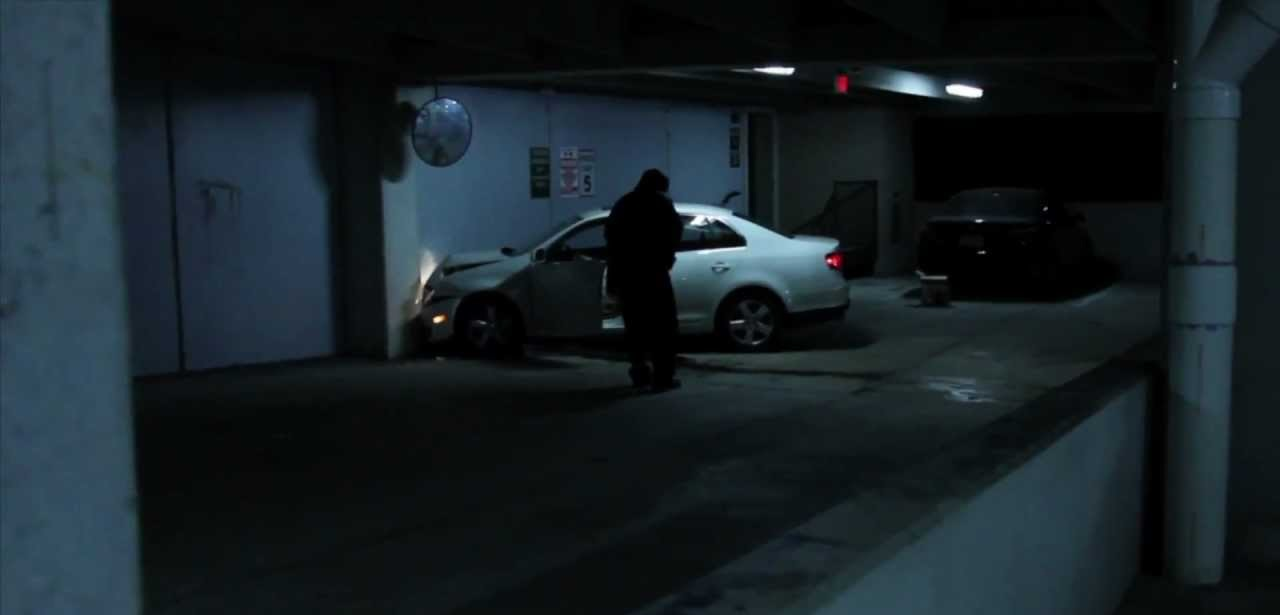car: (908, 182, 1102, 306)
